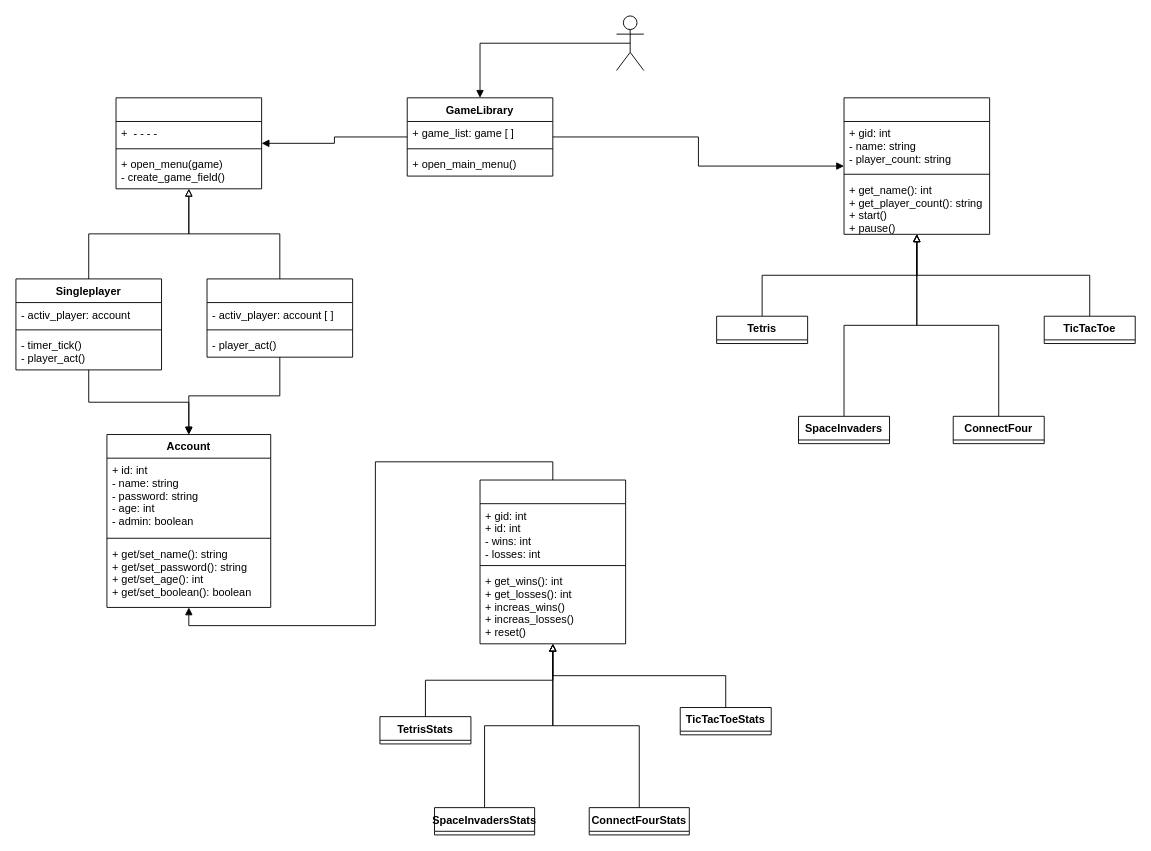
Some shapes in this 1151 by 851 pixel diagram are drawn without their labels. Here are the shapes that lost their labels. From the top down, the box of each, then its label:
(616, 15, 644, 71): Actor
(115, 97, 262, 189): Playground
(843, 97, 990, 234): Game
(206, 278, 353, 357): Multiplayer
(479, 479, 626, 644): Statistic
